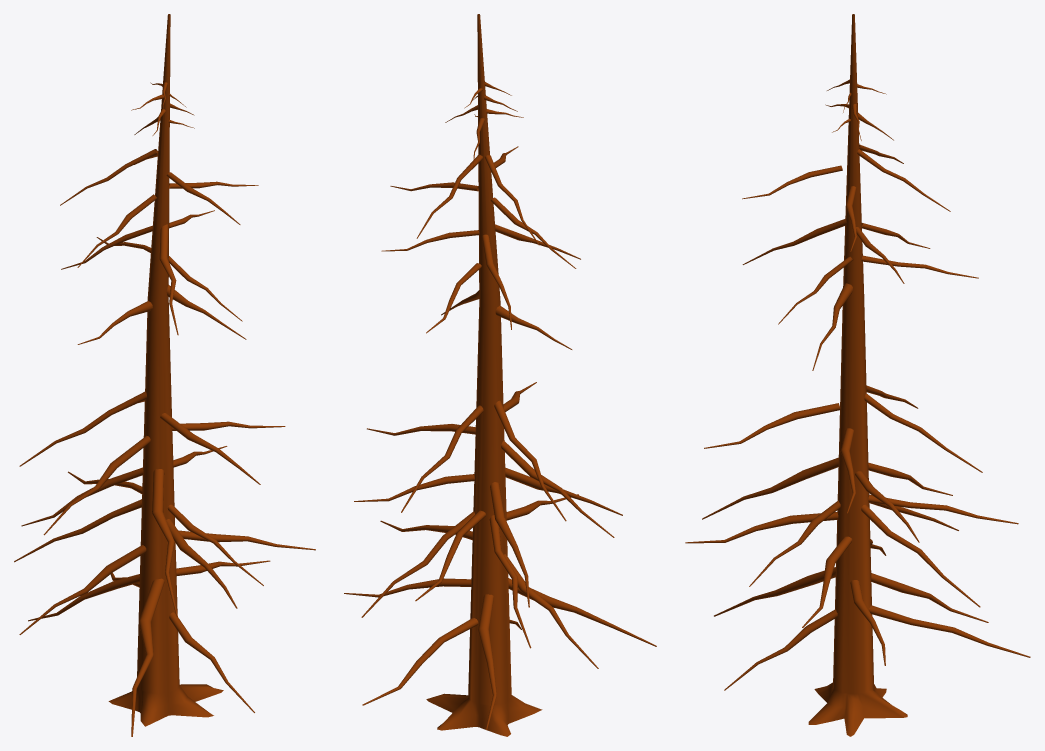
File: SmallNakedSpruce.fbx
3 views of the same model, side by side, from view 1: azimuth 30°, elevation 25°; view 2: azimuth 150°, elevation 25°; view 3: azimuth 270°, elevation 25° (orthographic).
Parts seen in each view (by area): view 1: SM_SmallNakedSpruce; view 2: SM_SmallNakedSpruce; view 3: SM_SmallNakedSpruce.
Boxes of the visible parts, bbox=[...] form: SM_SmallNakedSpruce: bbox=[14, 14, 315, 736]; SM_SmallNakedSpruce: bbox=[344, 14, 656, 736]; SM_SmallNakedSpruce: bbox=[685, 14, 1030, 736].
Bounding box in the file's own units: 411 × 1060 × 474.
